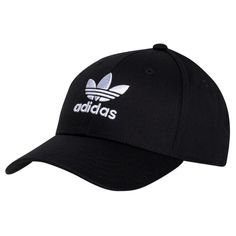adidas Originale: (70, 71, 134, 122)
